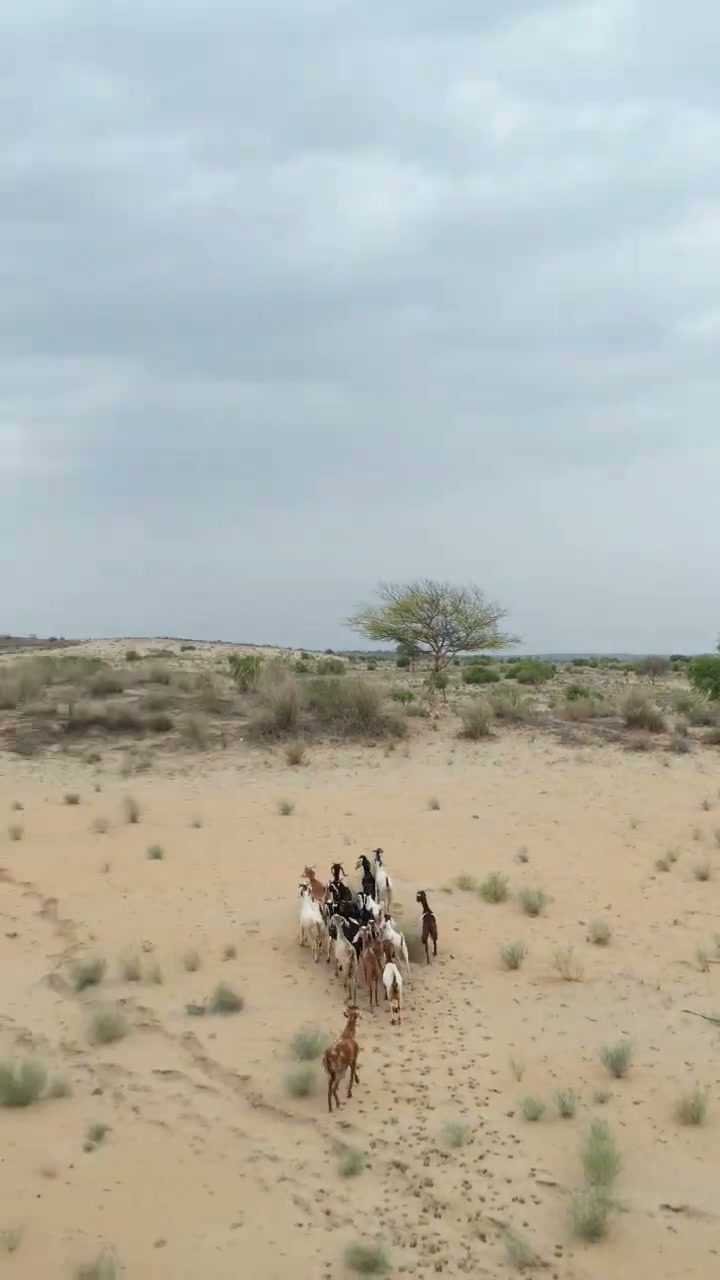animal_foot_print: (361, 943, 558, 1268)
